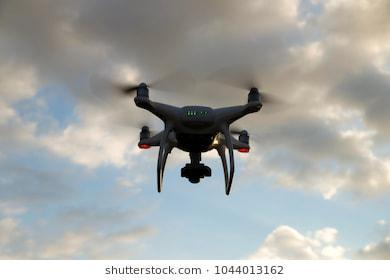drone: (132, 82, 265, 196)
